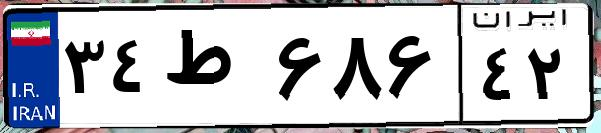2: (525, 38, 570, 115)
3: (57, 26, 110, 100)
4: (475, 38, 525, 113), (110, 28, 158, 98)
6: (270, 28, 330, 110), (385, 28, 445, 110)
8: (330, 28, 385, 110)
ط: (158, 20, 270, 120)
